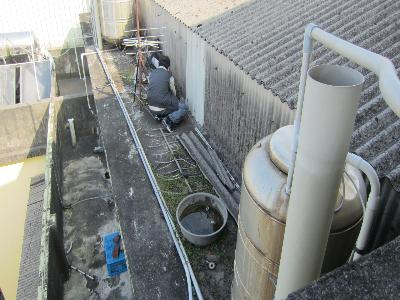bowl: (175, 191, 229, 247)
water_tower: (230, 121, 369, 300)
